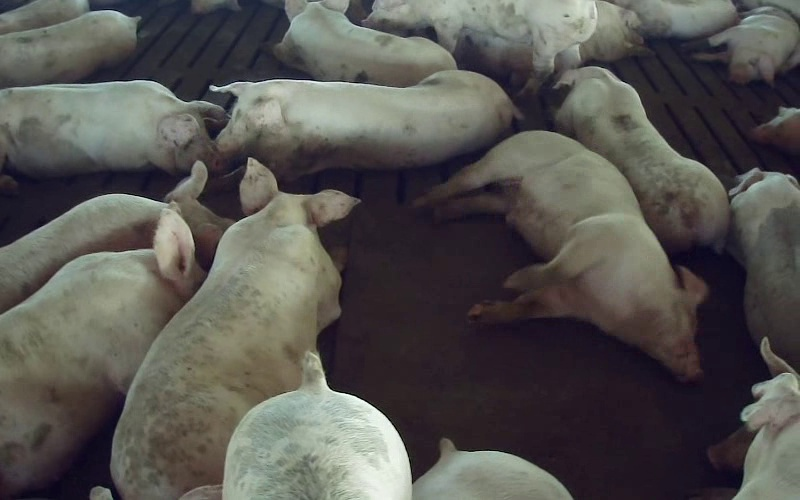pig: (111, 159, 358, 499), (0, 205, 204, 497), (211, 70, 517, 179), (555, 67, 729, 250), (223, 352, 411, 499), (0, 81, 226, 177), (363, 0, 596, 91), (0, 194, 164, 313), (273, 0, 455, 86), (728, 169, 799, 370), (0, 10, 139, 87), (694, 7, 799, 84), (610, 0, 737, 39)
